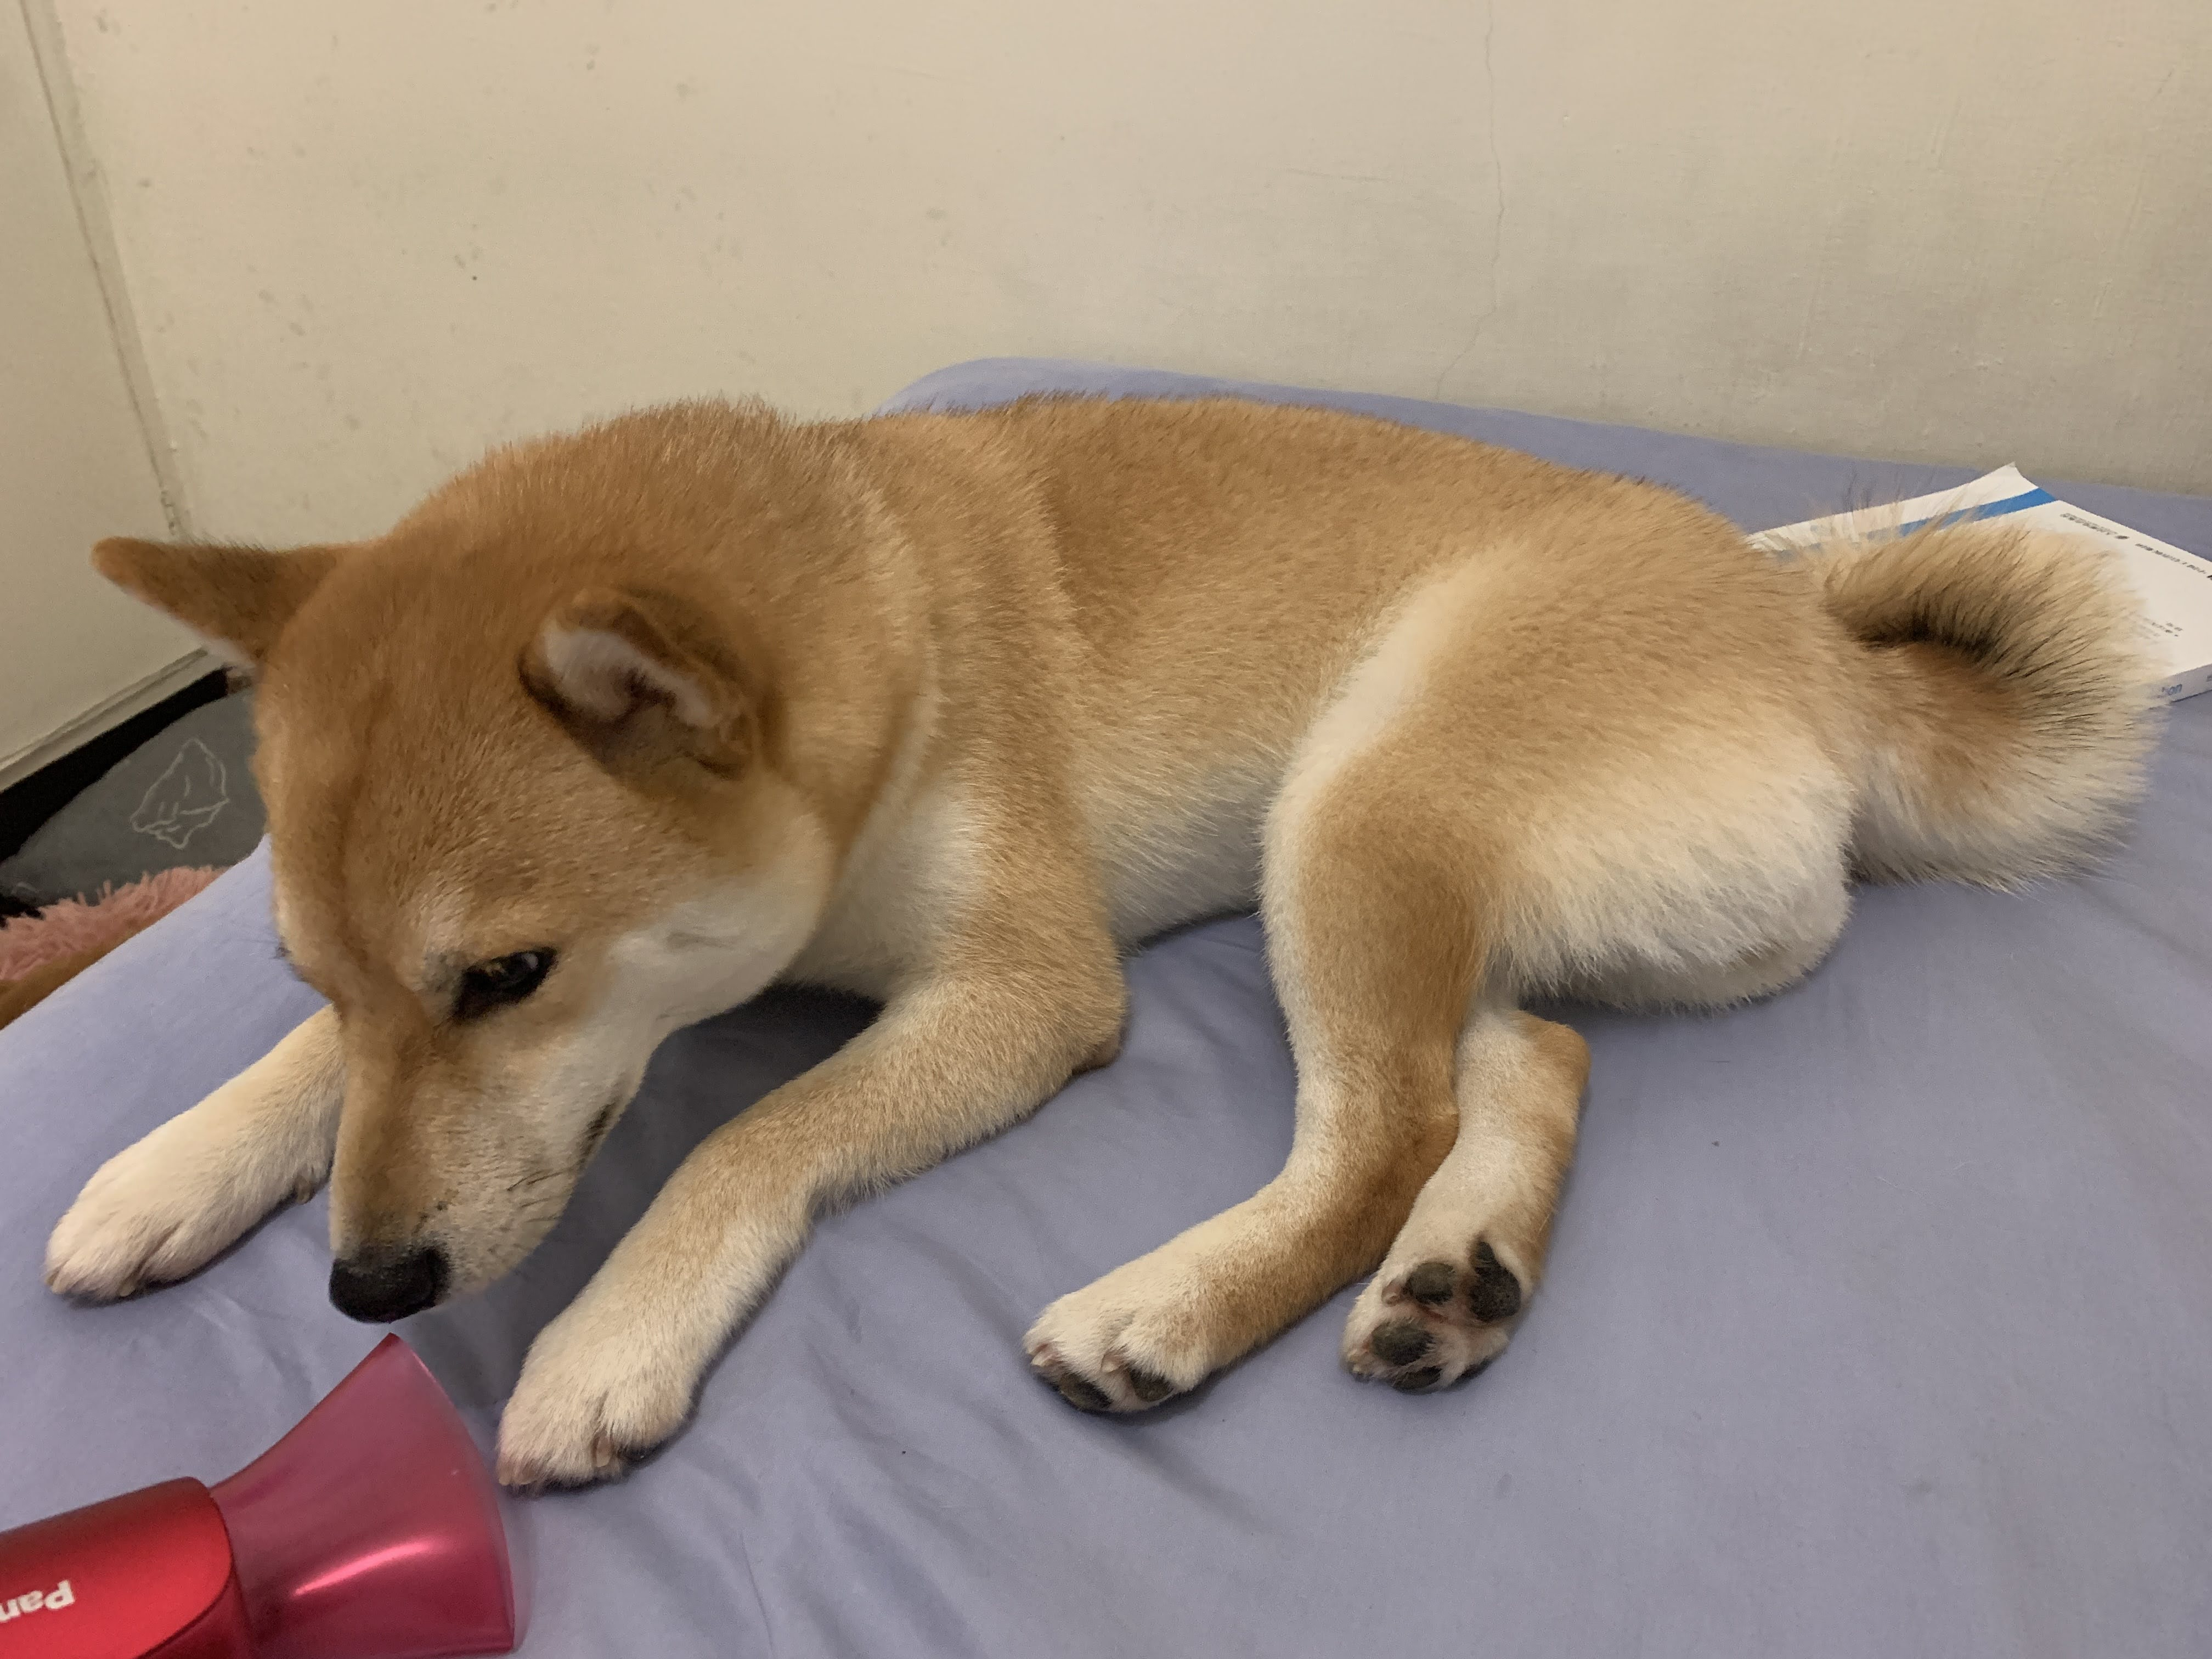Get down: (54, 362, 2161, 1486)
